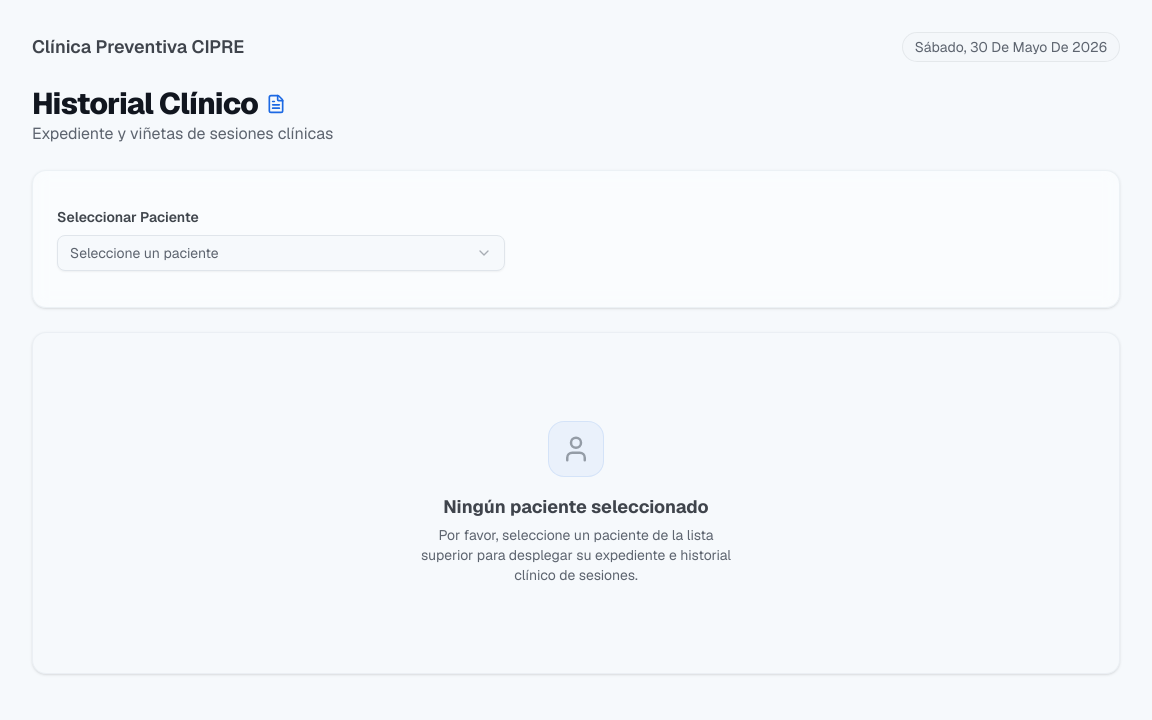
Test: HistorialClinicoPage Integration Tests › debería cargar y mostrar las notas al seleccionar un paciente
Expected: the text "Seleccione un paciente" is shown, 70,243 -> 219,263
Click the dropdown at (144, 253), box 57,235 -> 505,271
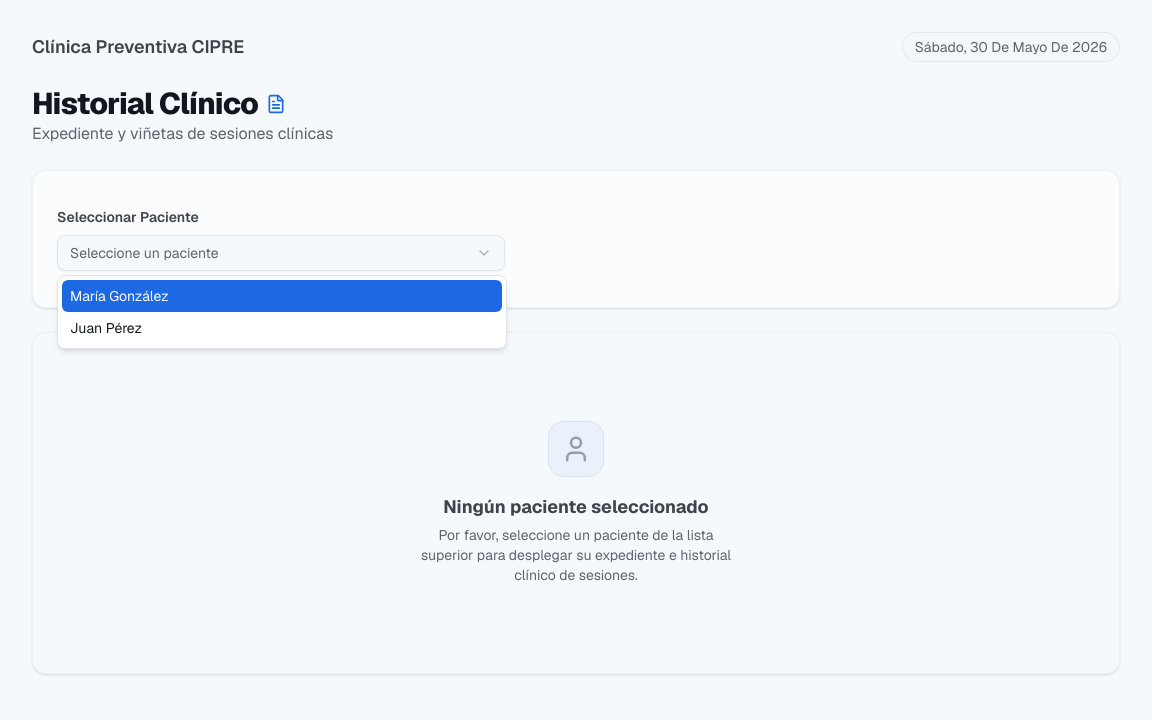
// Radix expone los items tras el click
Click the option "María González" at (88, 296), box 62,280 -> 502,312
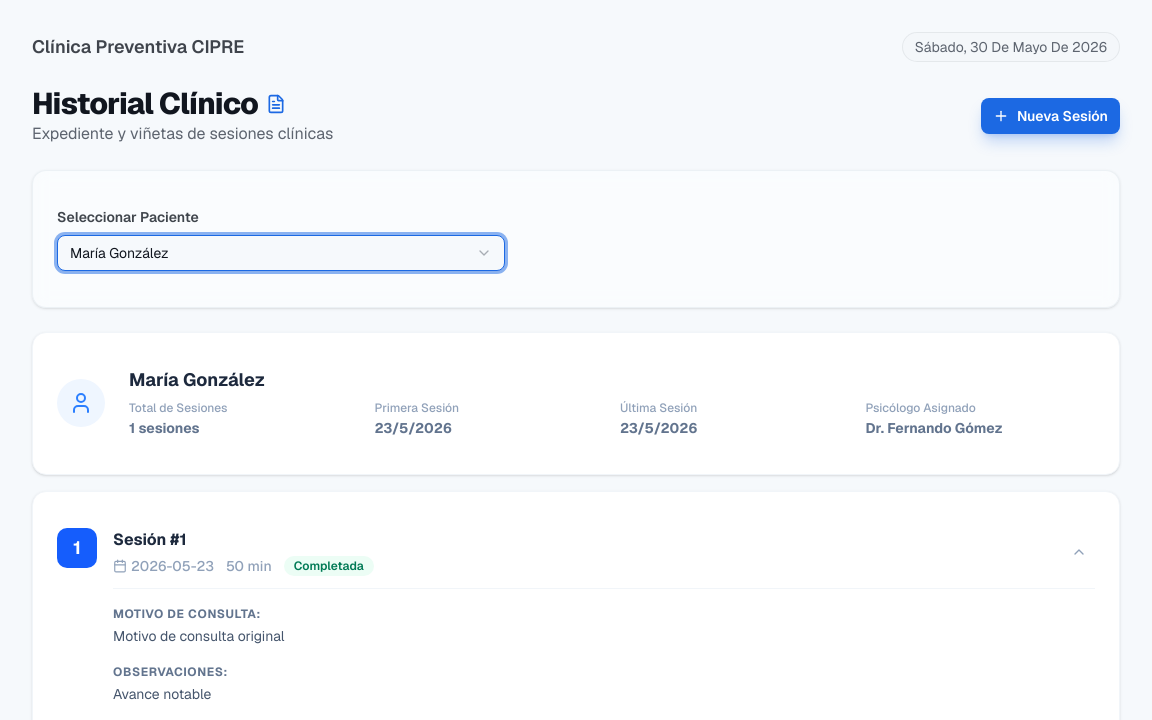
Result: the heading "Sesión #1" is shown at 113,528 -> 187,550
Result: the text "Avance notable" is shown at 113,685 -> 212,703
